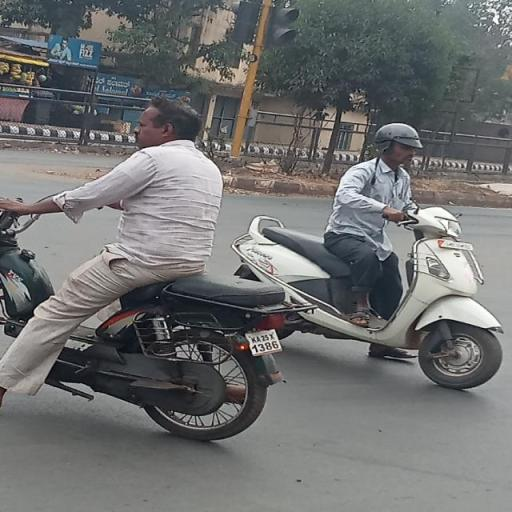bike: (0, 94, 304, 448)
numberplate: (244, 324, 287, 358)
withouthelmet: (138, 101, 198, 146)
